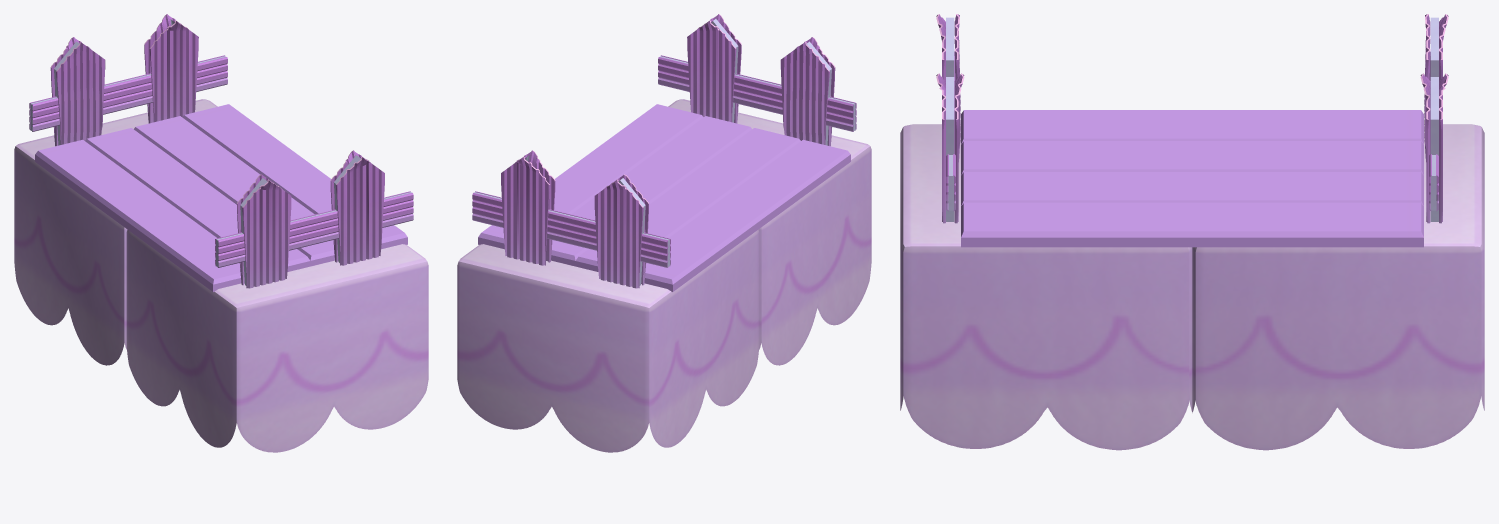
The model's file is Bridge1.fbx.
3 views of the same model, side by side, from view 1: azimuth 30°, elevation 25°; view 2: azimuth 150°, elevation 25°; view 3: azimuth 270°, elevation 25° (orthographic). The views are drawn at different scales.
Parts seen in each view (by area): view 1: Bridge1; view 2: Bridge1; view 3: Bridge1.
Part boxes in pixels (x1,y1,x2,y2): Bridge1: [14, 14, 428, 452]; Bridge1: [457, 14, 871, 452]; Bridge1: [900, 14, 1484, 450].
Bounding box in the file's own units: 1 × 1.52 × 2.
1 material, 1 textured.
